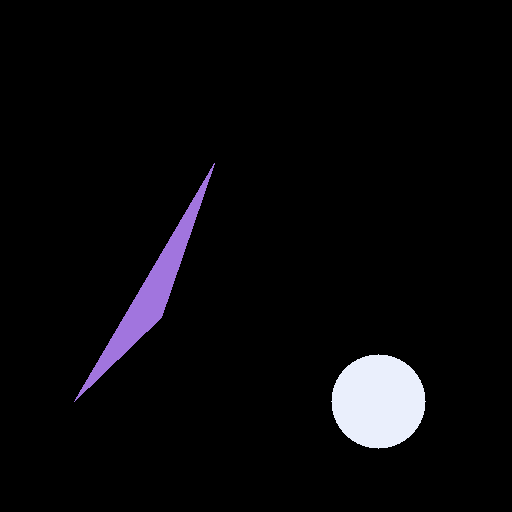circle: (331, 354, 425, 448)
triangle: (74, 163, 214, 401)
